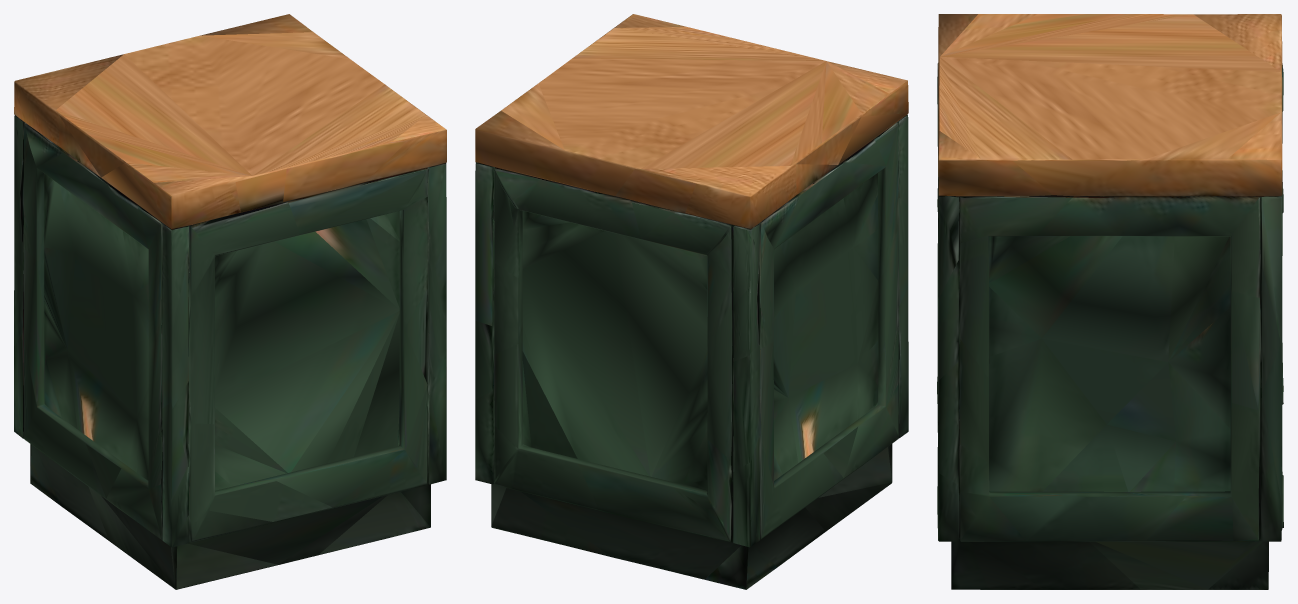
File: cafe-counter-corner.glb
3 renders of one model, left to right at view 1: azimuth 30°, elevation 25°; view 2: azimuth 150°, elevation 25°; view 3: azimuth 270°, elevation 25°, orthographic. The views are drawn at different scales.
Parts seen in each view (by area): view 1: tripo_node_dbf6c96c-b991-4e98-b33c-ab3877f04793; view 2: tripo_node_dbf6c96c-b991-4e98-b33c-ab3877f04793; view 3: tripo_node_dbf6c96c-b991-4e98-b33c-ab3877f04793.
Boxes of the visible parts, x1,y1,x2,y2 form: tripo_node_dbf6c96c-b991-4e98-b33c-ab3877f04793: [14, 14, 446, 589]; tripo_node_dbf6c96c-b991-4e98-b33c-ab3877f04793: [475, 14, 908, 589]; tripo_node_dbf6c96c-b991-4e98-b33c-ab3877f04793: [937, 14, 1283, 589].
Bounding box in the file's own units: 0.6494 × 0.8998 × 0.6487.
1 material, 1 textured.
